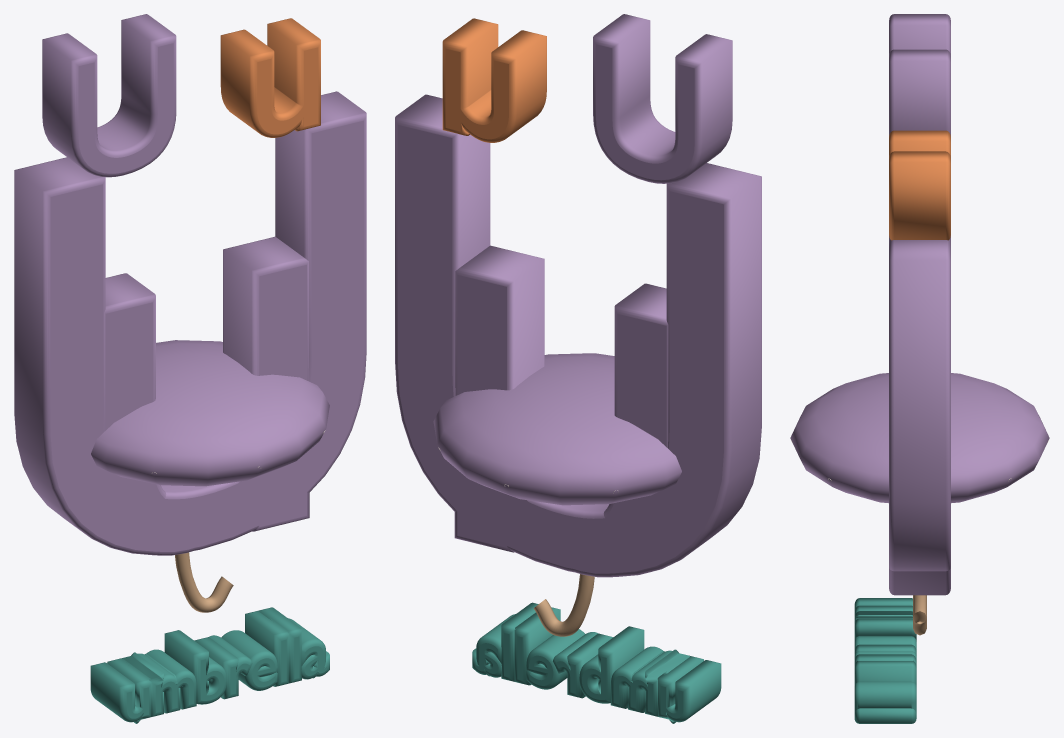
File: letter-u.glb
The picture shows the model from 3 angles, left to right: view 1: azimuth 30°, elevation 25°; view 2: azimuth 150°, elevation 25°; view 3: azimuth 270°, elevation 25°; orthographic projection. The views are drawn at different scales.
Parts seen in each view (by area): view 1: letter solid, letter solid.001, umbrella canopy, uppercase solid, example word, lowercase solid, umbrella handle; view 2: letter solid, letter solid.001, umbrella canopy, uppercase solid, example word, lowercase solid, umbrella handle; view 3: letter solid, umbrella canopy, example word, uppercase solid, lowercase solid, letter solid.001, umbrella handle.
Part boxes in pixels (<box>): letter solid: <box>14,91,366,555</box>; letter solid.001: <box>104,236,309,555</box>; umbrella canopy: <box>91,340,329,486</box>; uppercase solid: <box>42,14,176,177</box>; example word: <box>90,607,329,723</box>; lowercase solid: <box>220,18,320,137</box>; umbrella handle: <box>175,552,233,612</box>; letter solid: <box>395,94,761,576</box>; letter solid.001: <box>454,245,668,577</box>; umbrella canopy: <box>433,353,681,505</box>; uppercase solid: <box>593,14,732,183</box>; example word: <box>472,602,721,723</box>; lowercase solid: <box>442,18,546,142</box>; umbrella handle: <box>533,574,594,636</box>; letter solid: <box>889,236,950,571</box>; umbrella canopy: <box>790,373,1049,503</box>; example word: <box>854,598,916,723</box>; uppercase solid: <box>889,14,950,135</box>; lowercase solid: <box>889,130,950,240</box>; letter solid.001: <box>889,567,950,595</box>; umbrella handle: <box>913,595,926,635</box>.
Bounding box in the file's own units: 0.9985 × 1.95 × 0.754.
